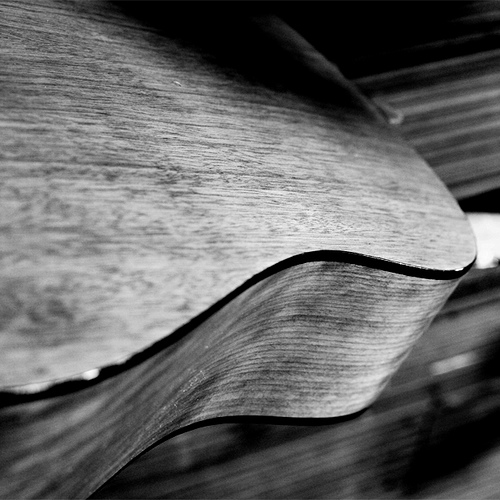guitar: (1, 1, 478, 499)
